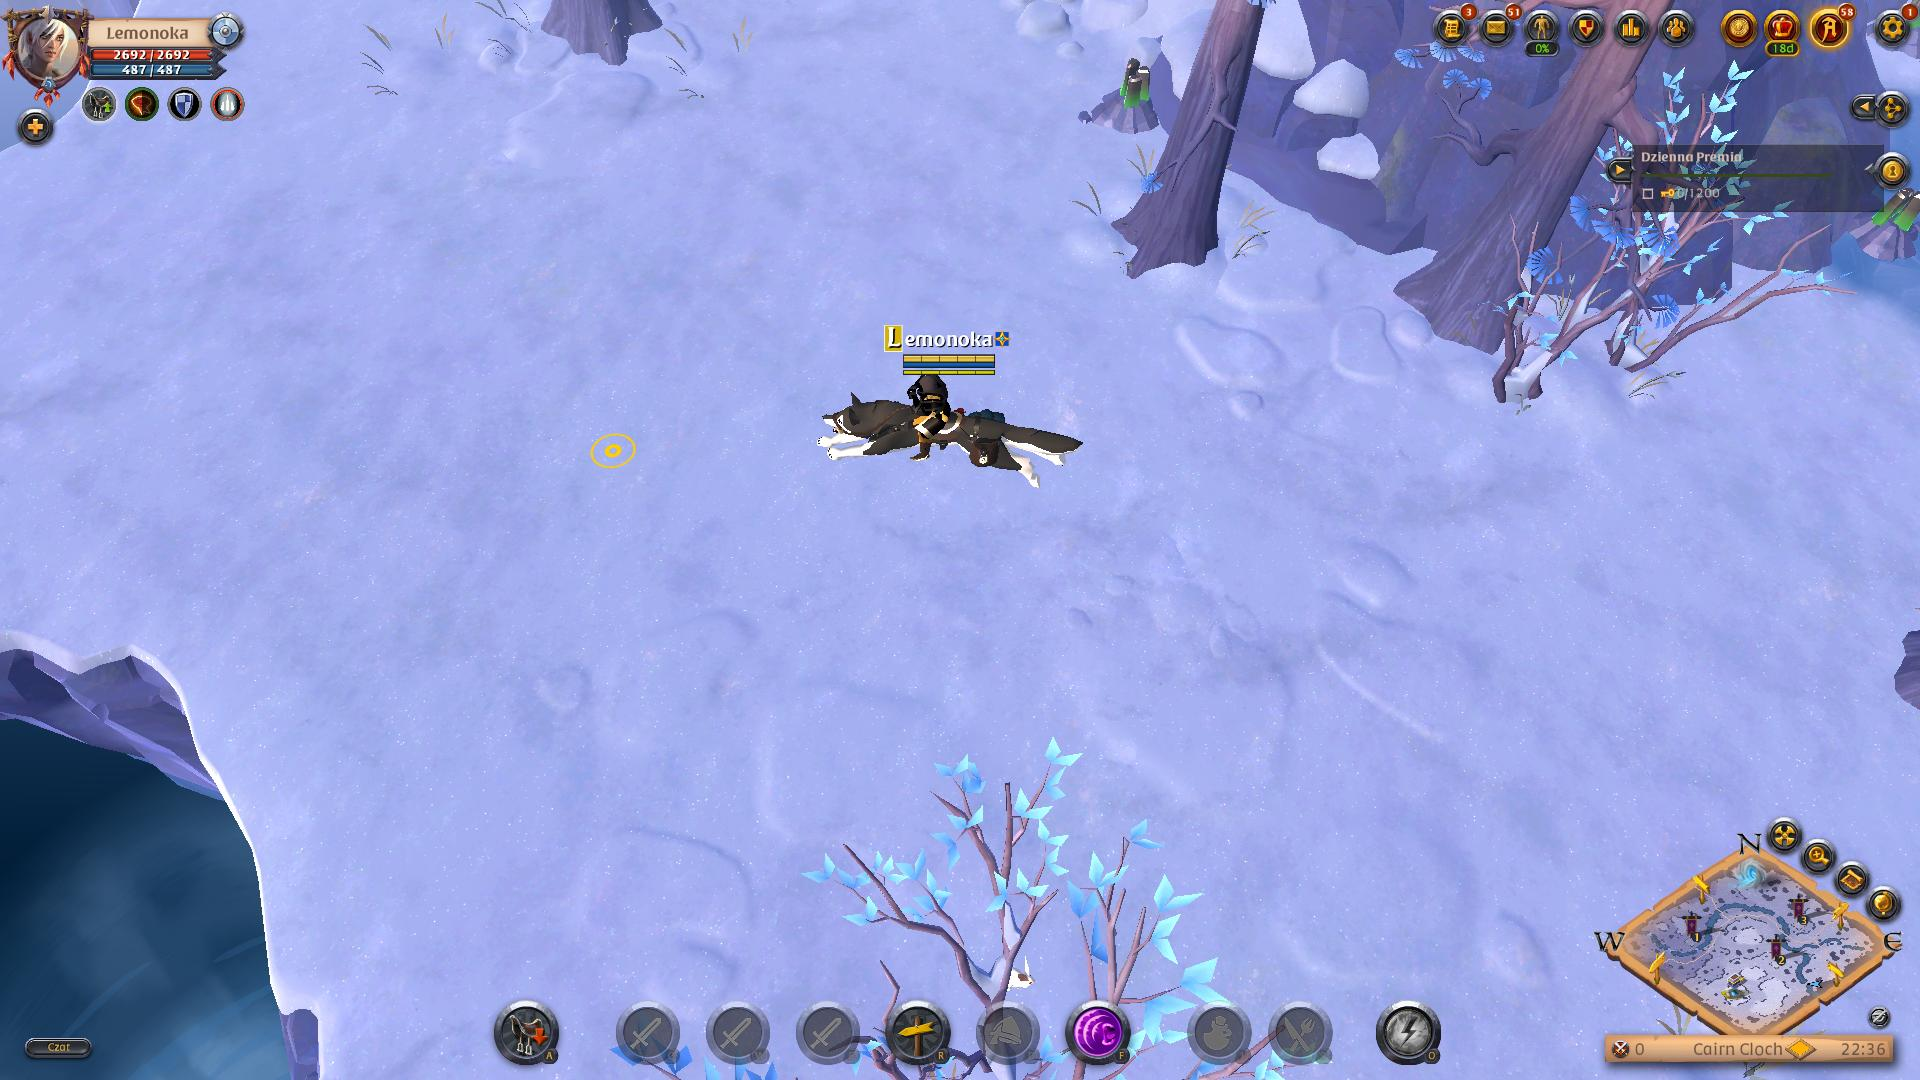ore tier 3: (1091, 53, 1160, 135)
